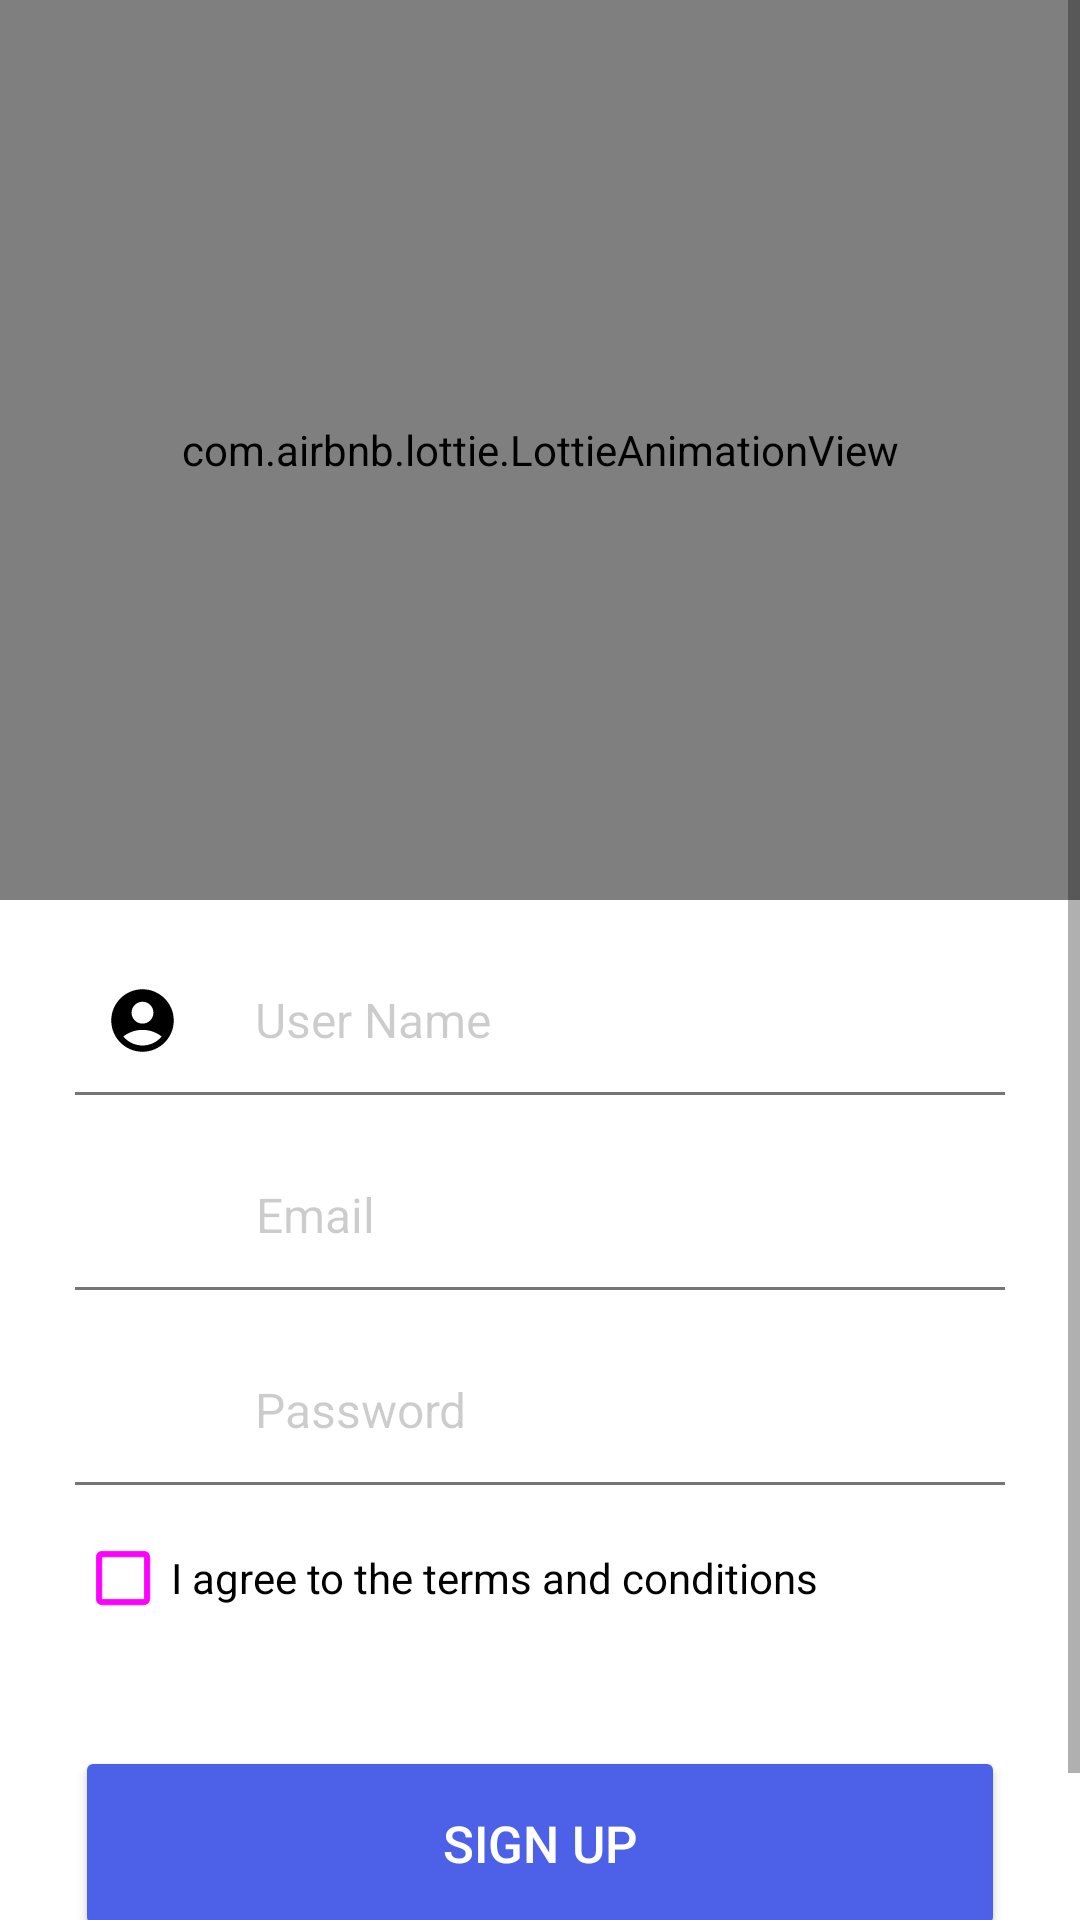

Point at icon controls on the screen. Image size 1080*1920, points as (x=x, y=y).
account circle: (x=142, y=1020)
